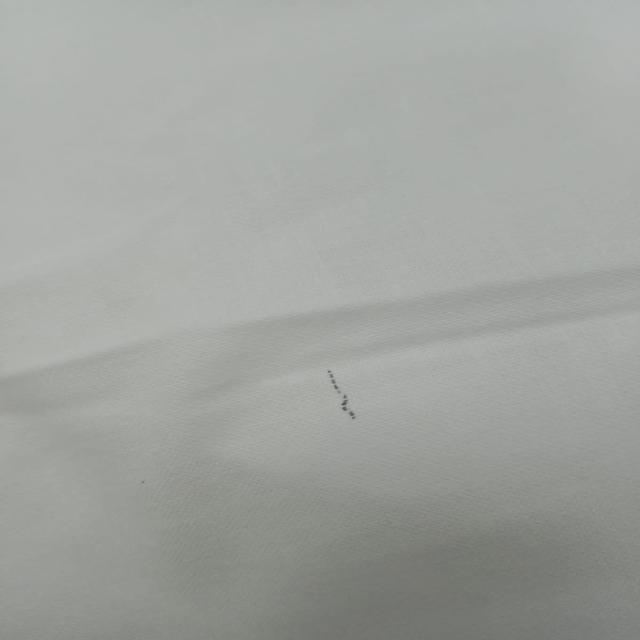contamination: (312, 357, 377, 440)
